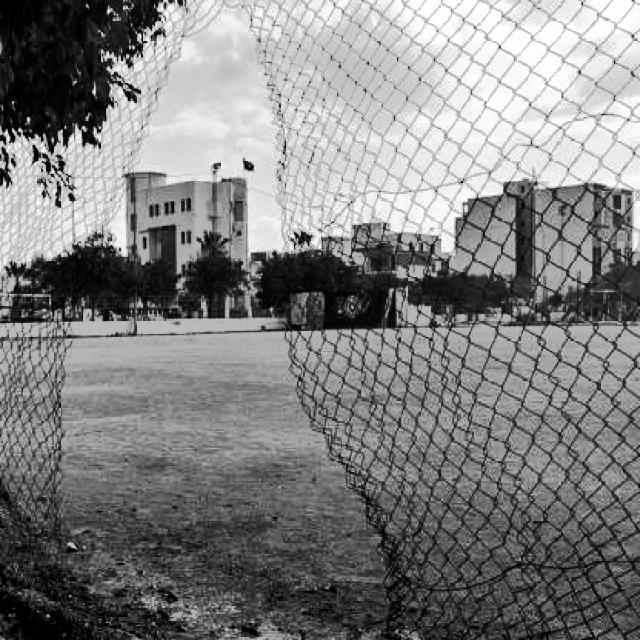anomaly-fence: (49, 7, 392, 639)
